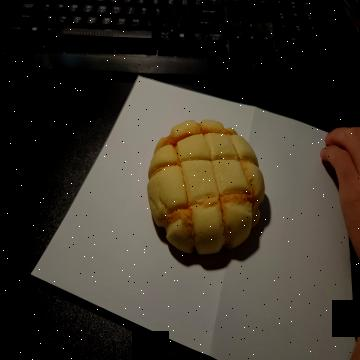melon_bread: (147, 120, 266, 260)
